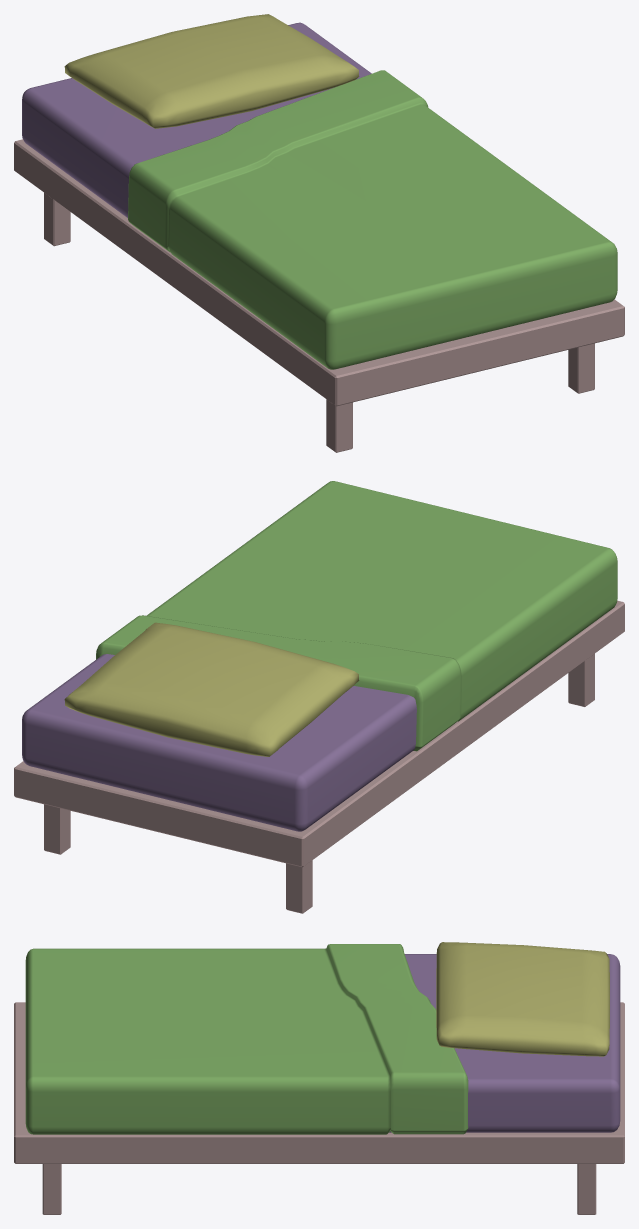
File: bed_Past.fbx
3 renders of one model, top to bottom at view 1: azimuth 30°, elevation 25°; view 2: azimuth 150°, elevation 25°; view 3: azimuth 270°, elevation 25°, orthographic. The views are drawn at different scales.
Parts seen in each view (by area): view 1: bed_Past; view 2: bed_Past; view 3: bed_Past.
Part boxes in pixels (x1,y1,x2,y2): bed_Past: [14, 14, 624, 452]; bed_Past: [14, 481, 624, 913]; bed_Past: [14, 942, 624, 1214].
Size of the model in its own units: 1.01 by 0.6168 by 1.92.
